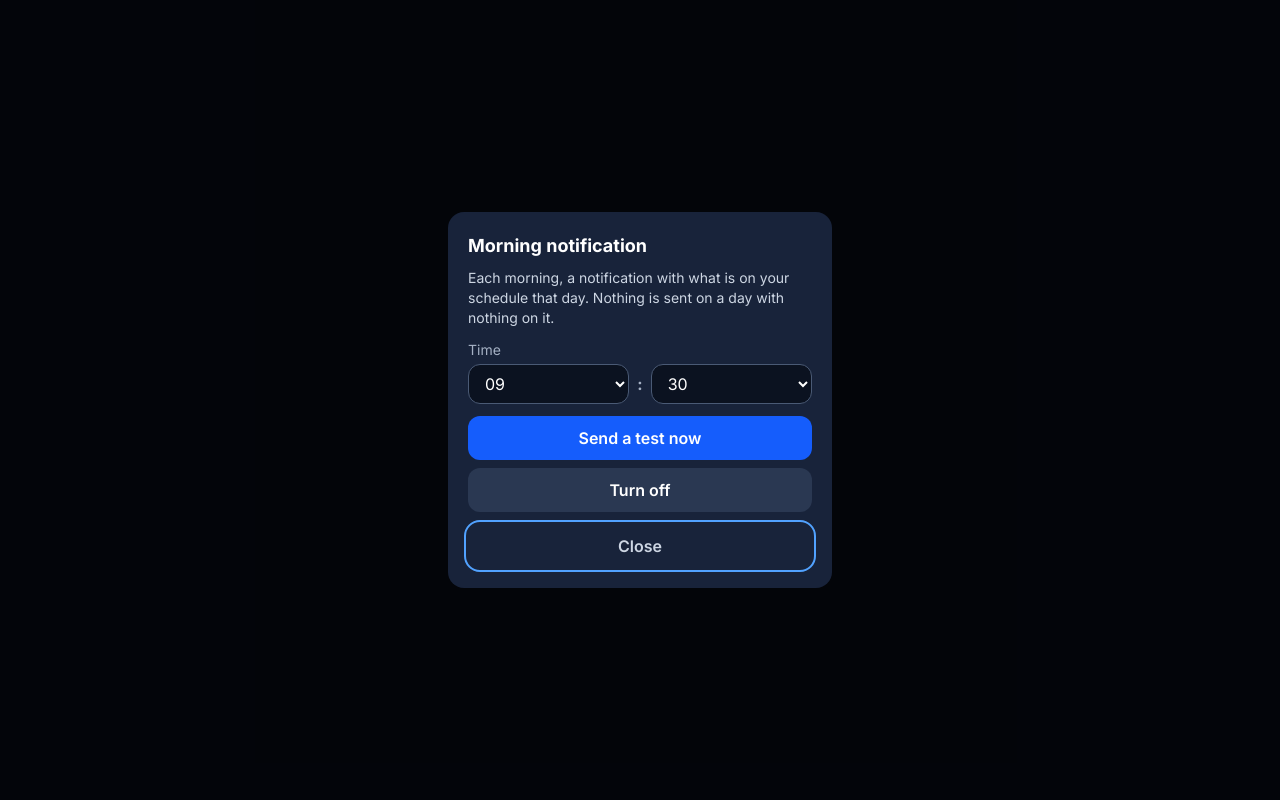
Test: on › everything waits while a request runs
The width and height of the screenshot is (1280, 800).
Click the button "Send a test now" at (640, 438), box [468,416,812,460]
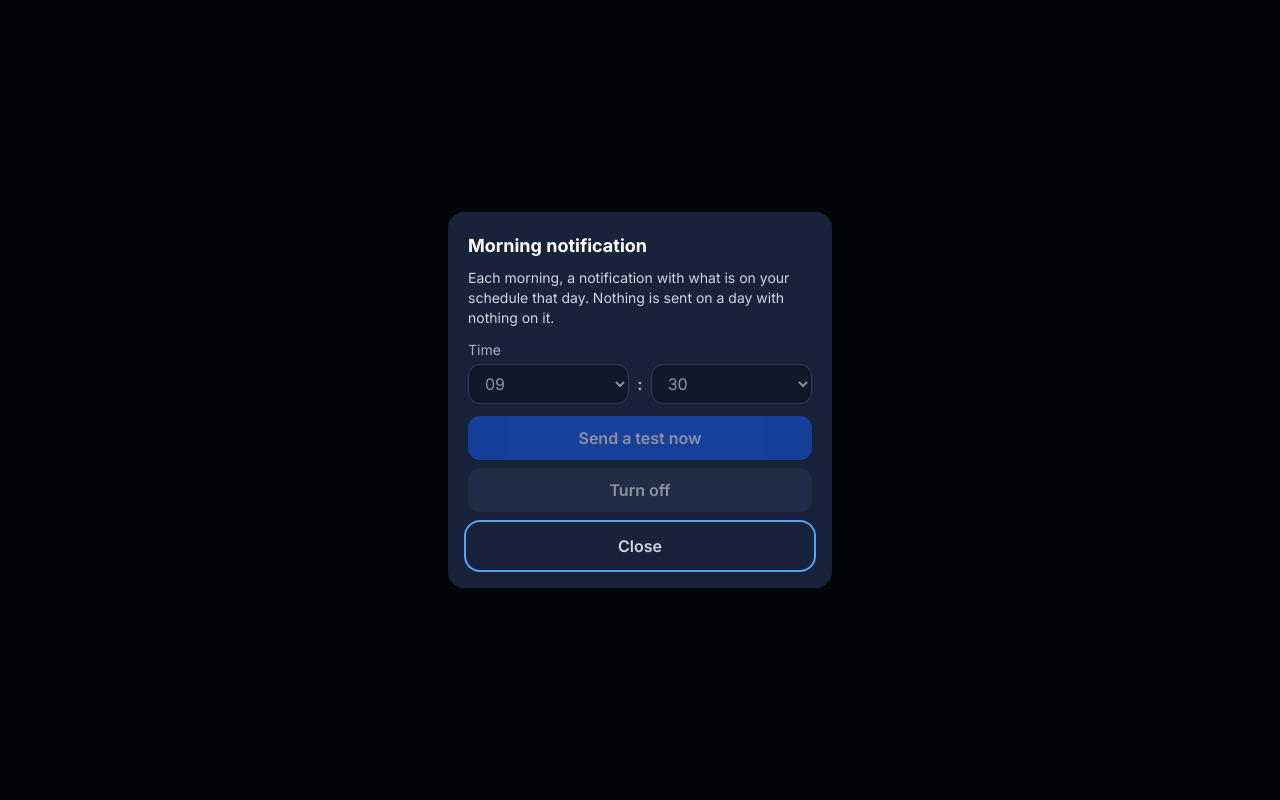
Expected: the button "Send a test now" is disabled, [468,416,812,460]
Expected: the button "Turn off" is disabled, [468,468,812,512]
Expected: the dropdown named "Hour" is disabled, [468,364,629,404]
